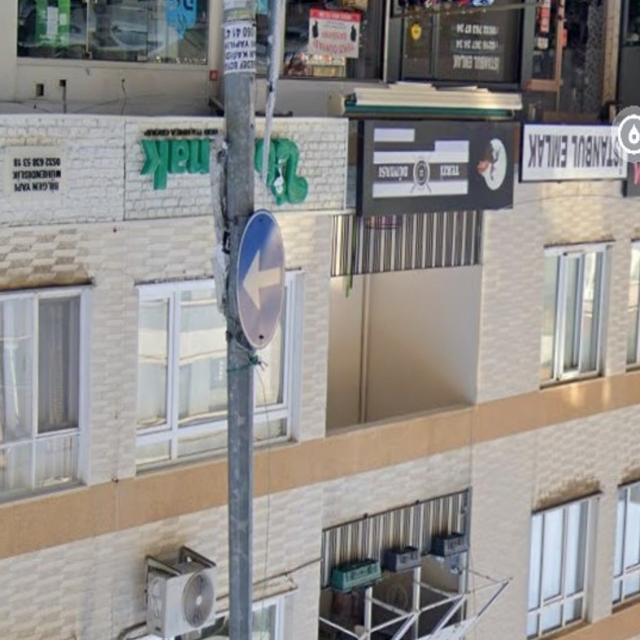Turn Left: (240, 212, 283, 350)
